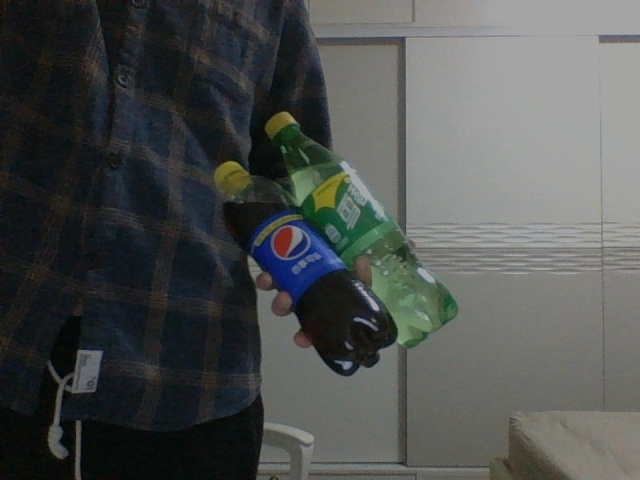Cola: (215, 160, 399, 373)
Sprite: (265, 109, 460, 347)
